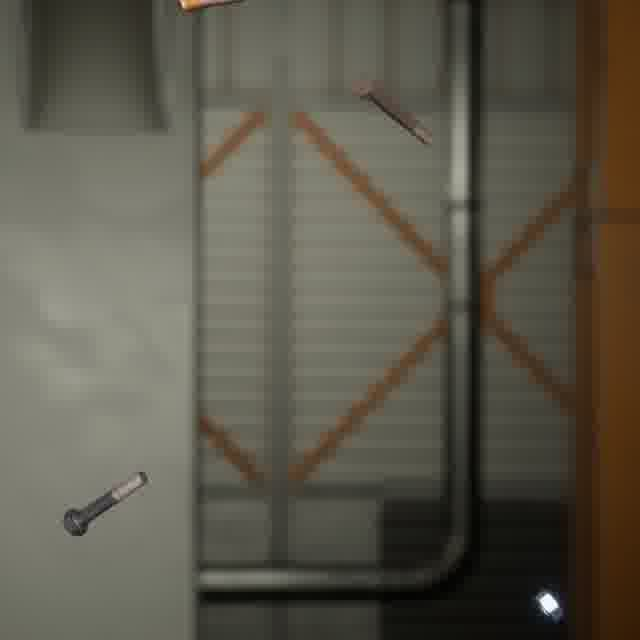bolt: (347, 68, 438, 149), (58, 466, 152, 540)
nut: (530, 585, 568, 626)
